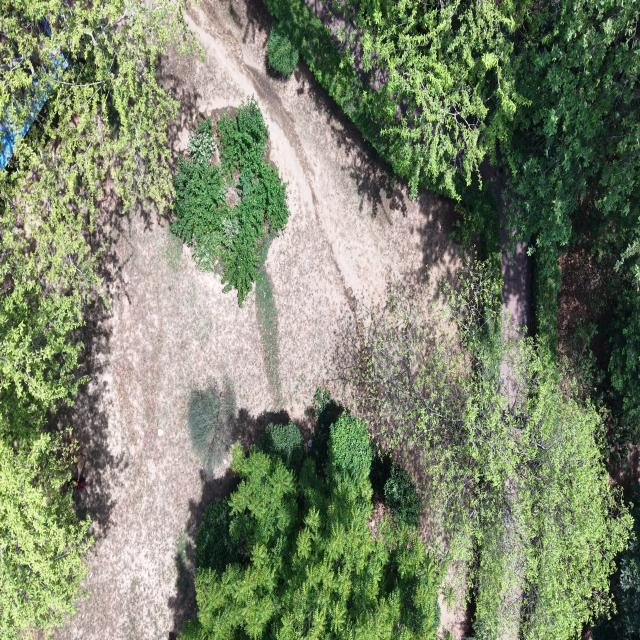DRY_AREA: (57, 0, 458, 639), (169, 3, 455, 340), (480, 151, 531, 408), (480, 155, 531, 410), (481, 161, 531, 410), (488, 166, 531, 410), (480, 151, 532, 348), (480, 151, 531, 349), (557, 239, 620, 397), (481, 160, 532, 348), (481, 160, 532, 341), (481, 158, 531, 341), (305, 0, 388, 90), (558, 244, 617, 370), (558, 244, 616, 370), (558, 245, 616, 368), (558, 244, 615, 367), (499, 194, 531, 410), (501, 214, 531, 339), (611, 442, 639, 491)
VEGETATION_TREE: (185, 0, 639, 639), (266, 0, 639, 465), (184, 263, 634, 639), (266, 0, 639, 442), (266, 0, 639, 342), (0, 0, 194, 638), (353, 265, 632, 639), (0, 0, 193, 440), (504, 0, 639, 466), (505, 0, 639, 444), (183, 413, 439, 639), (266, 0, 529, 198), (503, 0, 639, 346), (0, 0, 195, 222), (332, 0, 527, 197), (171, 98, 289, 305), (541, 237, 639, 474), (0, 190, 99, 415), (0, 415, 92, 639), (172, 119, 238, 269), (592, 272, 639, 444), (593, 477, 639, 639), (594, 486, 639, 639), (452, 176, 502, 281), (187, 379, 236, 478), (256, 233, 281, 405), (370, 447, 422, 526), (196, 499, 240, 574), (384, 465, 421, 526), (261, 422, 304, 469), (267, 23, 299, 77)
